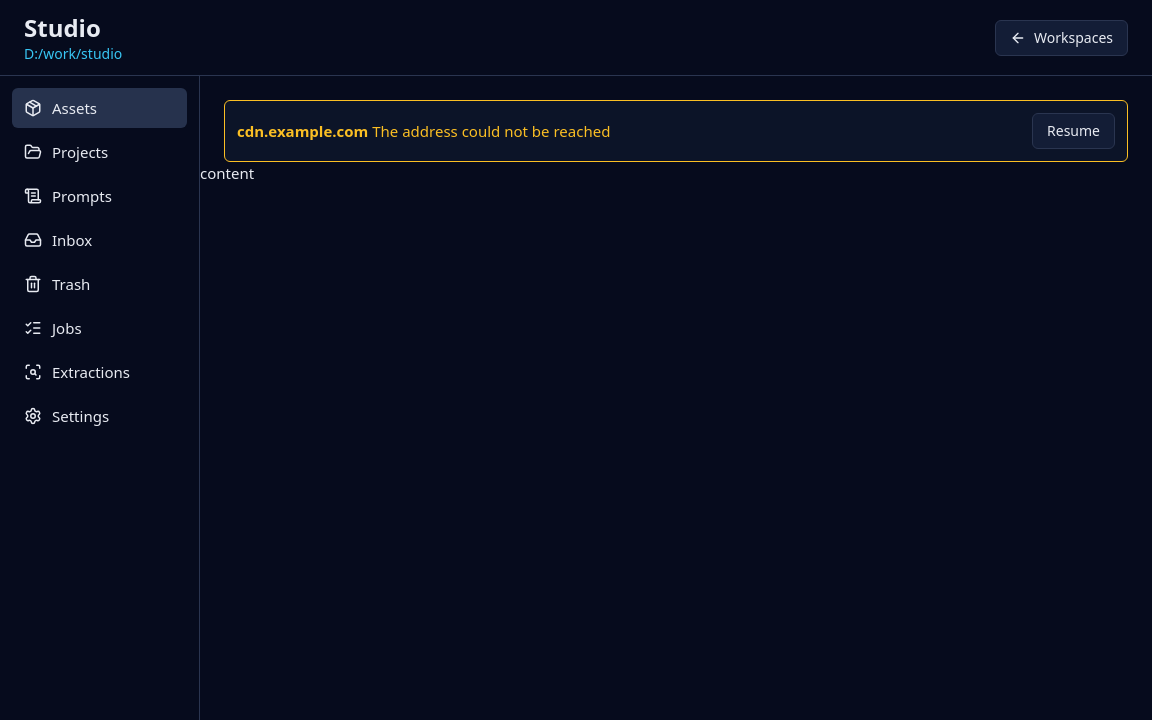
Test: a paused host alone shows the banner, and a failed resume shows in its line and keeps it
Expected: the element "cdn.example.com" shows "The address could not be reached", [372, 121, 610, 141]
What coordinates should you click on to do the following:
click the button "Resume"
I would click on:
 (1074, 131)
Its box is [1032, 113, 1115, 149].
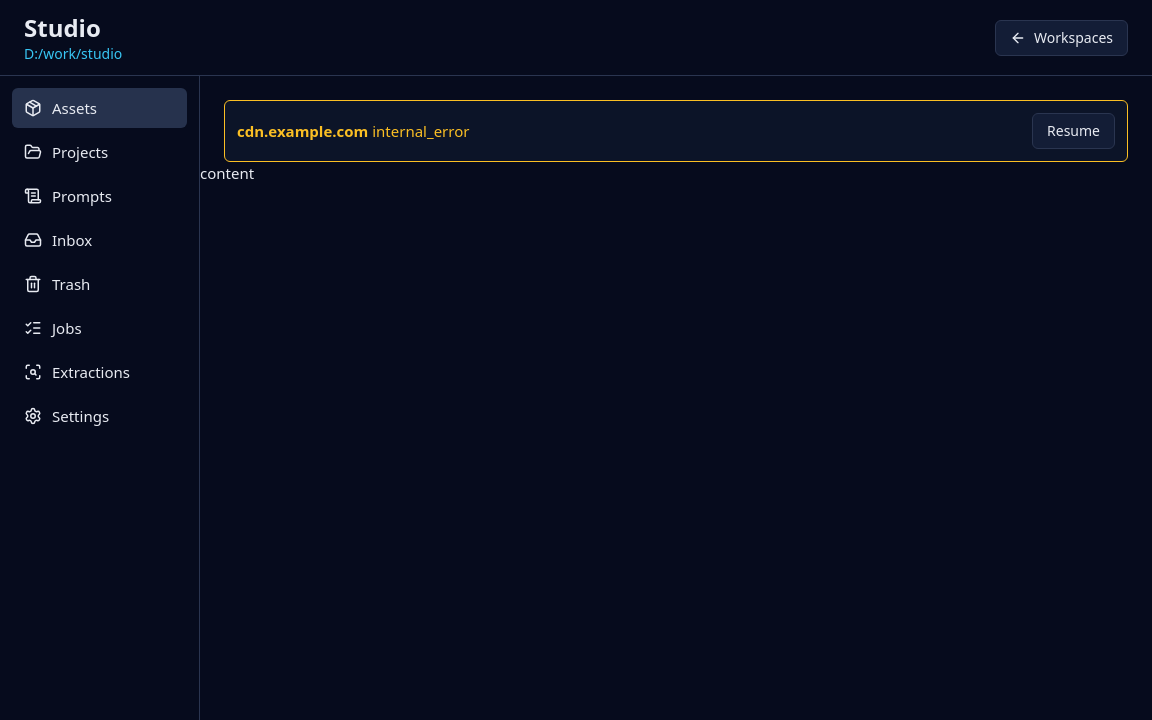
Expected: the element "cdn.example.com" is shown, [237, 121, 368, 141]
Now the element "cdn.example.com" no longer shows "The address could not be reached"
